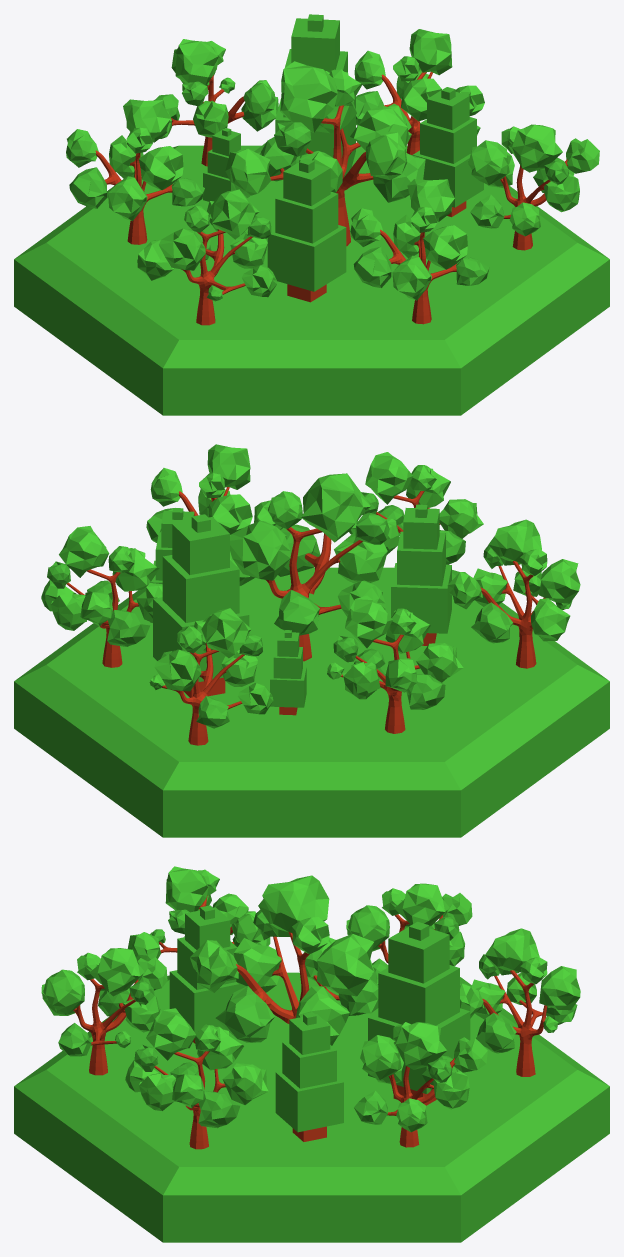
File: full_forest_prefab_center.fbx
The picture shows the model from 3 angles, top to bottom: view 1: azimuth 30°, elevation 25°; view 2: azimuth 150°, elevation 25°; view 3: azimuth 270°, elevation 25°; orthographic projection.
Parts seen in each view (by area): view 1: tile, tree_leaf1.006, Cube.012, tree_leaf2.004, tree_leaf2.006, tree_leaf1.005, tree_leaf1.002, tree_leaf2.003, tree_leaf3.006, tree_leaf1.003, tree_leaf2.005, tree_leaf2.002 (+27 smaller); view 2: tile, tree_leaf2.006, tree_leaf1.005, tree_leaf2.001, Cube.003, tree_leaf1.004, tree_leaf3.006, tree_leaf1.006, tree_leaf2.004, tree_leaf1.007, tree_leaf2.007, tree_leaf1.002 (+23 smaller); view 3: tile, tree_leaf1.006, tree_leaf2.006, tree_leaf1.003, Cube.003, tree_leaf3.006, tree_leaf2.007, tree_leaf2.001, Cube.022, tree_leaf2.003, tree_leaf1.007, tree_leaf2.002 (+24 smaller).
Boxes of the visible parts, x1=… form: tile: x1=14, y1=145, x2=609, y2=415; tree_leaf1.006: x1=280, y1=61, x2=411, y2=179; Cube.012: x1=267, y1=225, x2=346, y2=291; tree_leaf2.004: x1=159, y1=205, x2=276, y2=297; tree_leaf2.006: x1=225, y1=69, x2=362, y2=195; tree_leaf1.005: x1=66, y1=99, x2=170, y2=221; tree_leaf1.002: x1=350, y1=179, x2=454, y2=300; tree_leaf2.003: x1=468, y1=126, x2=579, y2=236; tree_leaf3.006: x1=254, y1=121, x2=425, y2=202; tree_leaf1.003: x1=488, y1=124, x2=599, y2=187; tree_leaf2.005: x1=109, y1=127, x2=183, y2=190; tree_leaf2.002: x1=393, y1=207, x2=467, y2=269; tile: x1=14, y1=567, x2=609, y2=837; tree_leaf2.006: x1=230, y1=491, x2=387, y2=616; tree_leaf1.005: x1=345, y1=595, x2=463, y2=692; tree_leaf2.001: x1=154, y1=626, x2=273, y2=714; Cube.003: x1=162, y1=555, x2=239, y2=622; tree_leaf1.004: x1=447, y1=519, x2=570, y2=641; tree_leaf3.006: x1=274, y1=512, x2=389, y2=635; tree_leaf1.006: x1=230, y1=473, x2=371, y2=585; tree_leaf2.004: x1=473, y1=549, x2=580, y2=606; tree_leaf1.007: x1=59, y1=526, x2=162, y2=626; tree_leaf2.007: x1=41, y1=546, x2=159, y2=630; tree_leaf1.002: x1=365, y1=452, x2=483, y2=538; tile: x1=14, y1=972, x2=609, y2=1242; tree_leaf1.006: x1=190, y1=875, x2=349, y2=1045; tree_leaf2.006: x1=234, y1=917, x2=374, y2=996; tree_leaf1.003: x1=146, y1=1008, x2=268, y2=1108; Cube.003: x1=378, y1=965, x2=459, y2=1025; tree_leaf3.006: x1=215, y1=909, x2=378, y2=1042; tree_leaf2.007: x1=360, y1=1022, x2=469, y2=1132; tree_leaf2.001: x1=471, y1=957, x2=580, y2=1019; Cube.022: x1=275, y1=1071, x2=343, y2=1132; tree_leaf2.003: x1=125, y1=1024, x2=243, y2=1110; tree_leaf1.007: x1=376, y1=1022, x2=487, y2=1084; tree_leaf2.002: x1=43, y1=952, x2=160, y2=1047.
Size of the model in its own units: 16.93 by 8.97 by 19.55.
